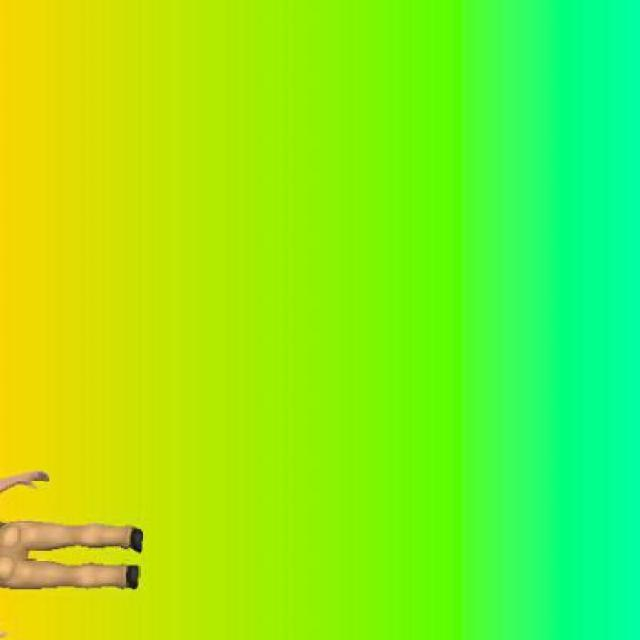Person: (0, 464, 145, 594)
